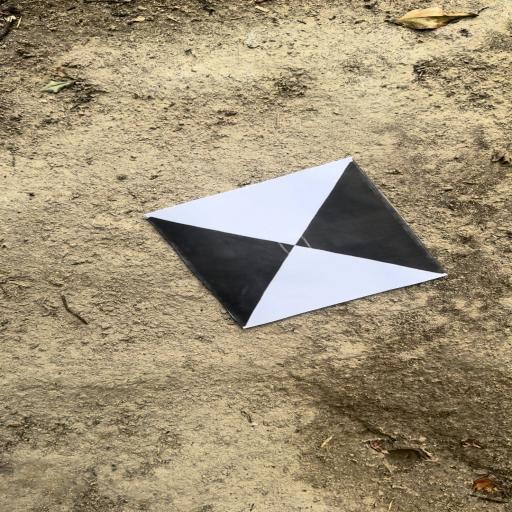target: (147, 159, 449, 325)
